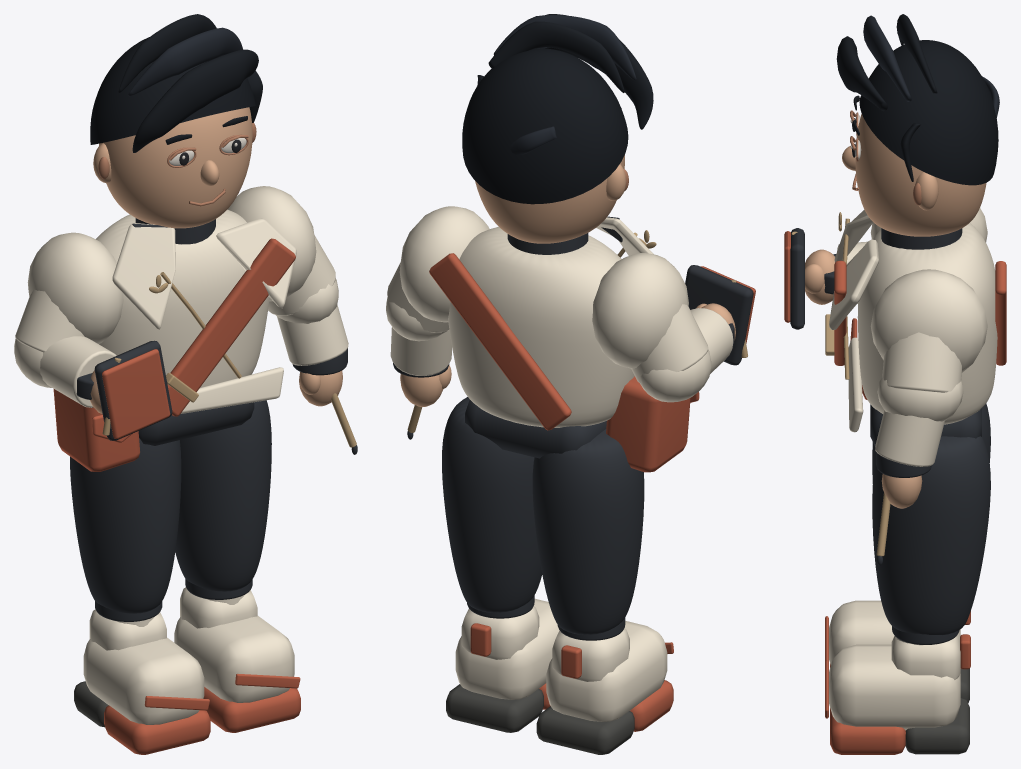
File: option-a-fold-creator.glb
3 views of the same model, side by side, from view 1: azimuth 30°, elevation 25°; view 2: azimuth 150°, elevation 25°; view 3: azimuth 270°, elevation 25° (orthographic).
Visible parts, largest first — view 1: BalloonTrouser-1, BalloonTrouser1, CroppedJacket, PorcelainFace, SculpturalBoot-1, SleeveShoulder-1, SculpturalBoot1, WideCrossbodyFront, SculptedHairCap, HeroDiagonalFringe, FoldedHighCollar, NotebookFoldPanel (+26 smaller); view 2: CroppedJacket, SculptedHairCap, BalloonTrouser-1, BalloonTrouser1, SleeveShoulder-1, WideCrossbodyBack, SculpturalBoot-1, SleeveShoulder1, FoldedToolCase, PorcelainFace, SculpturalBoot1, CroppedInnerLayer (+21 smaller); view 3: BalloonTrouser1, SculptedHairCap, CroppedJacket, SculpturalBoot1, SleeveShoulder1, PorcelainFace, SleeveUpper1, SleeveForearm1, SculpturalBoot-1, ElbowFold1, BootUpper1, SplitSoleFront1 (+24 smaller).
Part boxes in pixels (<box>): BalloonTrouser-1: <box>70,438,181,613</box>; BalloonTrouser1: <box>175,400,271,591</box>; CroppedJacket: <box>96,209,269,387</box>; PorcelainFace: <box>99,107,252,228</box>; SculpturalBoot-1: <box>83,637,204,724</box>; SleeveShoulder-1: <box>27,232,123,343</box>; SculpturalBoot1: <box>174,616,294,702</box>; WideCrossbodyFront: <box>167,238,295,416</box>; SculptedHairCap: <box>90,37,255,144</box>; HeroDiagonalFringe: <box>132,49,258,152</box>; FoldedHighCollar: <box>112,223,175,329</box>; NotebookFoldPanel: <box>102,349,170,438</box>; CroppedJacket: <box>448,226,634,427</box>; SculptedHairCap: <box>462,48,628,204</box>; BalloonTrouser-1: <box>532,429,644,634</box>; BalloonTrouser1: <box>442,397,542,612</box>; SleeveShoulder-1: <box>592,253,688,368</box>; WideCrossbodyBack: <box>429,253,571,430</box>; SculpturalBoot-1: <box>546,621,667,721</box>; SleeveShoulder1: <box>399,206,489,322</box>; FoldedToolCase: <box>606,376,690,472</box>; PorcelainFace: <box>475,155,624,243</box>; SculpturalBoot1: <box>455,598,559,699</box>; CroppedInnerLayer: <box>465,400,606,458</box>; BalloonTrouser1: <box>872,436,990,634</box>; SculptedHairCap: <box>859,40,998,185</box>; CroppedJacket: <box>857,223,997,424</box>; SculpturalBoot1: <box>829,644,960,730</box>; SleeveShoulder1: <box>870,269,987,372</box>; PorcelainFace: <box>855,114,986,236</box>; SleeveUpper1: <box>882,332,961,392</box>; SleeveForearm1: <box>875,410,944,466</box>; SculpturalBoot-1: <box>829,600,960,665</box>; ElbowFold1: <box>877,376,963,421</box>; BootUpper1: <box>891,635,960,679</box>; SplitSoleFront1: <box>830,708,905,754</box>.
Size of the model in its own units: 0.8345 by 1.74 by 0.5055.
